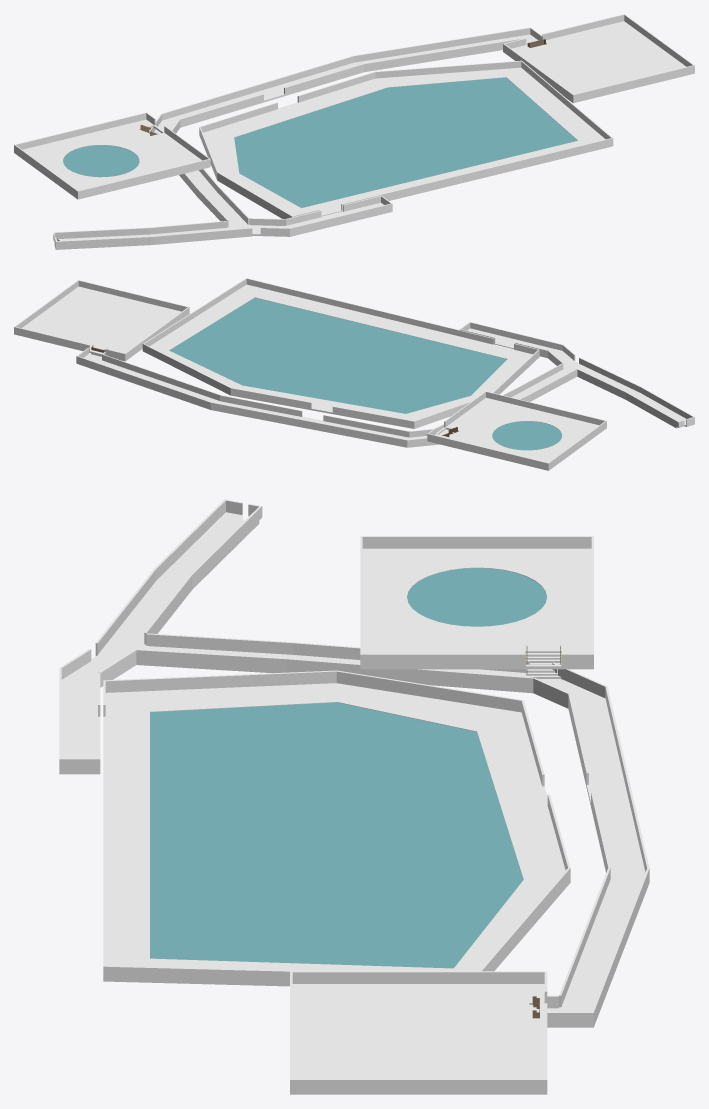
3 views of the same model, one above another, from view 1: azimuth 30°, elevation 25°; view 2: azimuth 150°, elevation 25°; view 3: azimuth 270°, elevation 25° (orthographic). The views are drawn at different scales.
Visible parts, largest first — view 1: summit_floor_stone_floor, summit_water_w_caldera, summit_wall_basalt, summit_water_w_spring; view 2: summit_floor_stone_floor, summit_water_w_caldera, summit_wall_basalt, summit_water_w_spring; view 3: summit_floor_stone_floor, summit_water_w_caldera, summit_wall_basalt, summit_water_w_spring.
Boxes of the visible parts, x1=… form: summit_floor_stone_floor: x1=14, y1=21, x2=694, y2=249; summit_water_w_caldera: x1=234, y1=77, x2=577, y2=207; summit_wall_basalt: x1=14, y1=14, x2=694, y2=248; summit_water_w_spring: x1=63, y1=145, x2=139, y2=177; summit_floor_stone_floor: x1=14, y1=284, x2=694, y2=470; summit_water_w_caldera: x1=169, y1=297, x2=507, y2=413; summit_wall_basalt: x1=14, y1=278, x2=694, y2=469; summit_water_w_spring: x1=492, y1=421, x2=561, y2=450; summit_floor_stone_floor: x1=59, y1=512, x2=649, y2=1094; summit_water_w_caldera: x1=150, y1=702, x2=523, y2=968; summit_wall_basalt: x1=59, y1=499, x2=649, y2=1091; summit_water_w_spring: x1=407, y1=568, x2=546, y2=626.
Size of the model in its own units: 119 by 4.05 by 50.52.
